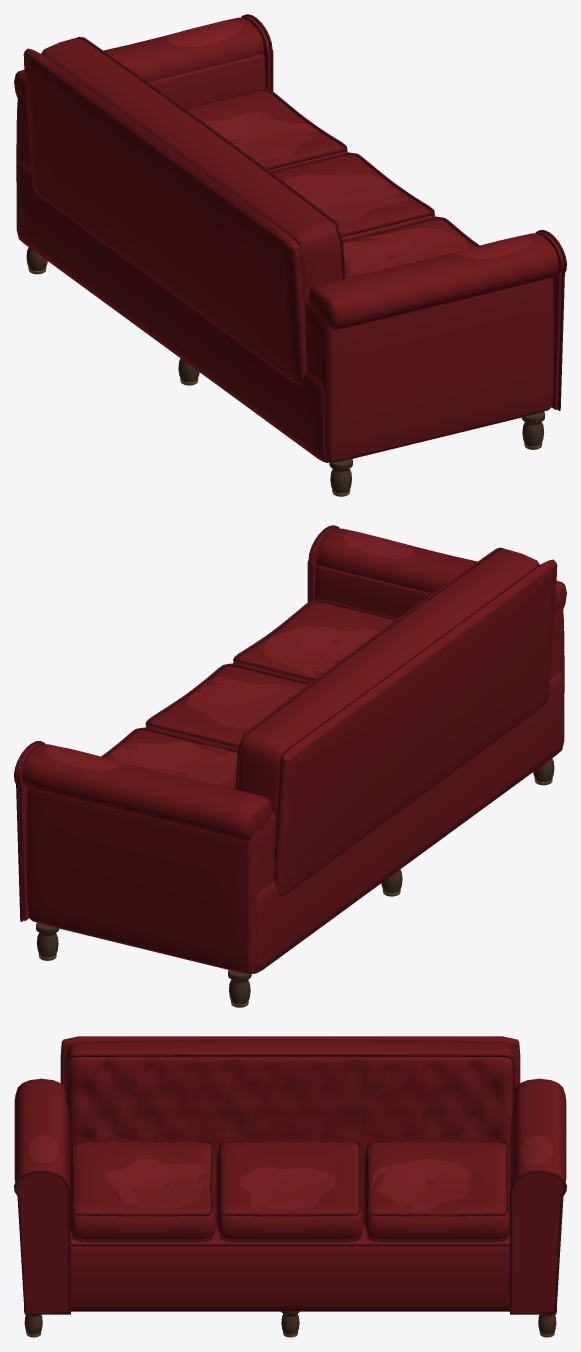
Rendered from sofa.glb.
3 renders of one model, top to bottom at view 1: azimuth 30°, elevation 25°; view 2: azimuth 150°, elevation 25°; view 3: azimuth 270°, elevation 25°, orthographic. The views are drawn at different scales.
Visible parts, largest first — view 1: armlehne, ruecken_aussen, unterbau, ruecken, armlehne.001, abrieb, abrieb.001, sitzkissen.002, abrieb.002, sitzkissen.001, fuesse, arm_abrieb.001 (+7 smaller); view 2: armlehne.001, ruecken_aussen, unterbau, ruecken, armlehne, abrieb.001, abrieb.002, abrieb, sitzkissen.001, sitzkissen, fuesse, ruecken_keder (+7 smaller); view 3: ruecken, unterbau, sitzkissen.001, sitzkissen.002, sitzkissen, stirn, stirn.001, armlehne, armlehne.001, abrieb, abrieb.002, abrieb.001 (+11 smaller).
Boxes of the visible parts, x1,y1,x2,y2 form: armlehne: (305, 233, 558, 463); ruecken_aussen: (23, 48, 306, 385); unterbau: (16, 161, 327, 462); ruecken: (41, 38, 342, 311); armlehne.001: (14, 17, 265, 181); abrieb: (343, 228, 468, 275); abrieb.001: (284, 173, 407, 220); sitzkissen.002: (185, 90, 347, 170); abrieb.002: (204, 111, 318, 166); sitzkissen.001: (272, 154, 435, 239); fuesse: (26, 247, 544, 493); arm_abrieb.001: (166, 20, 242, 46); armlehne.001: (22, 744, 275, 974); ruecken_aussen: (274, 559, 557, 896); unterbau: (253, 672, 564, 973); ruecken: (238, 549, 539, 822); armlehne: (315, 528, 566, 692); abrieb.001: (186, 677, 298, 728); abrieb.002: (110, 742, 237, 784); abrieb: (263, 626, 379, 677); sitzkissen.001: (145, 666, 307, 749); sitzkissen: (233, 601, 395, 682); fuesse: (36, 758, 554, 1004); ruecken_keder: (235, 547, 504, 789); ruecken: (65, 1039, 515, 1156); unterbau: (71, 1225, 509, 1311); sitzkissen.001: (216, 1141, 364, 1239); sitzkissen.002: (364, 1141, 509, 1239); sitzkissen: (71, 1141, 216, 1239); stirn: (16, 1170, 68, 1311); stirn.001: (512, 1170, 564, 1311); armlehne: (14, 1078, 70, 1188); armlehne.001: (510, 1078, 566, 1188); abrieb: (105, 1158, 209, 1209); abrieb.002: (371, 1158, 470, 1211); abrieb.001: (239, 1167, 335, 1212).
Bounding box in the file's own units: 0.9421 × 0.9113 × 2.15.
